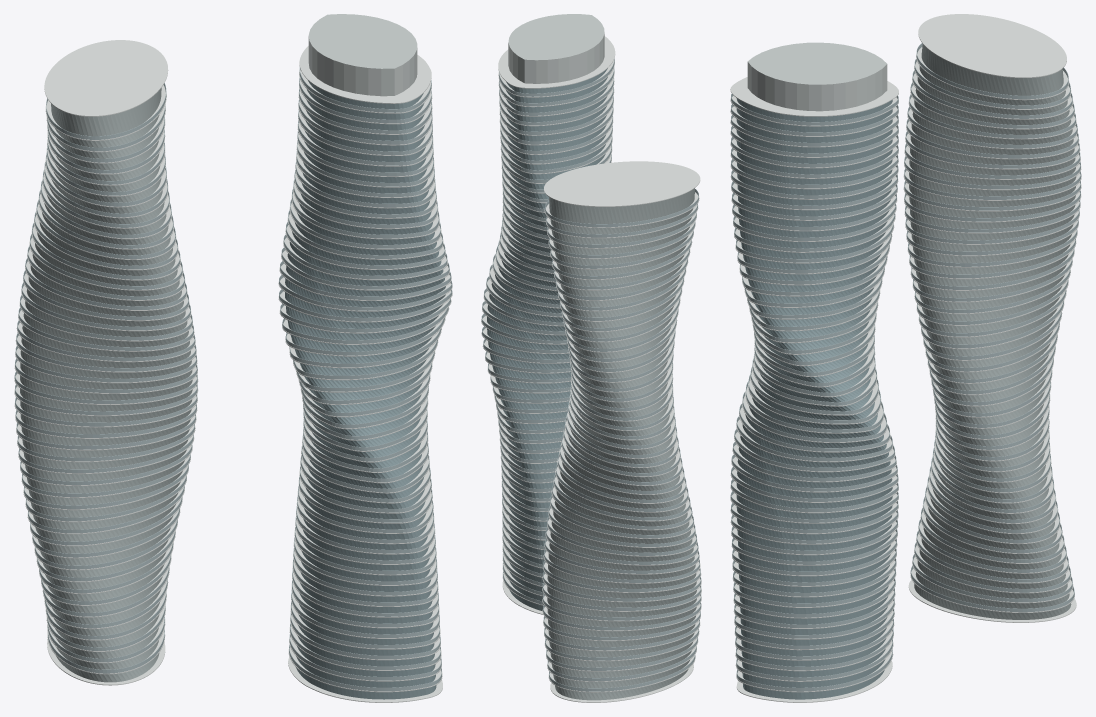
Rendered from absolute-world-source-derived.glb.
3 renders of one model, left to right at view 1: azimuth 30°, elevation 25°; view 2: azimuth 150°, elevation 25°; view 3: azimuth 270°, elevation 25°, orthographic. The views are drawn at different scales.
Visible parts, largest first — view 1: absolute-60-roof-cap, absolute-50-slab-51, absolute-50-glazing-50, absolute-60-slab-57, absolute-50-glazing-22, absolute-50-glazing-24, absolute-50-glazing-23, absolute-50-glazing-26, absolute-50-glazing-25, absolute-50-glazing-27, absolute-50-glazing-21, absolute-50-glazing-20 (+150 smaller); view 2: absolute-60-roof-cap, absolute-50-slab-51, absolute-50-glazing-50, absolute-60-slab-57, absolute-50-glazing-01, absolute-50-glazing-09, absolute-50-glazing-08, absolute-50-glazing-10, absolute-50-glazing-11, absolute-50-glazing-12, absolute-50-glazing-05, absolute-50-glazing-07 (+127 smaller); view 3: absolute-60-roof-cap, absolute-50-slab-51, absolute-50-glazing-50, absolute-60-slab-57, absolute-50-glazing-01, absolute-50-glazing-38, absolute-50-glazing-40, absolute-50-glazing-36, absolute-50-glazing-37, absolute-50-glazing-41, absolute-50-glazing-39, absolute-50-glazing-42 (+196 smaller).
Boxes of the visible parts, <box> form: absolute-60-roof-cap: <box>308,14,417,96</box>; absolute-50-slab-51: <box>44,40,168,116</box>; absolute-50-glazing-50: <box>51,88,161,136</box>; absolute-60-slab-57: <box>299,46,431,103</box>; absolute-50-glazing-22: <box>20,409,191,434</box>; absolute-50-glazing-24: <box>20,388,192,411</box>; absolute-50-glazing-23: <box>20,399,192,422</box>; absolute-50-glazing-26: <box>20,363,192,389</box>; absolute-50-glazing-25: <box>20,375,192,400</box>; absolute-50-glazing-27: <box>20,350,191,378</box>; absolute-50-glazing-21: <box>21,419,190,445</box>; absolute-50-glazing-20: <box>22,429,189,457</box>; absolute-60-roof-cap: <box>508,14,604,83</box>; absolute-50-slab-51: <box>544,161,700,206</box>; absolute-50-glazing-50: <box>549,188,694,223</box>; absolute-60-slab-57: <box>498,36,615,88</box>; absolute-50-glazing-01: <box>555,669,688,700</box>; absolute-50-glazing-09: <box>547,597,696,617</box>; absolute-50-glazing-08: <box>547,607,696,627</box>; absolute-50-glazing-10: <box>547,586,696,607</box>; absolute-50-glazing-11: <box>547,575,696,598</box>; absolute-50-glazing-12: <box>548,564,696,588</box>; absolute-50-glazing-05: <box>549,633,694,657</box>; absolute-50-glazing-07: <box>548,615,695,637</box>; absolute-60-roof-cap: <box>747,42,887,111</box>; absolute-50-slab-51: <box>918,14,1066,77</box>; absolute-50-glazing-50: <box>921,44,1063,95</box>; absolute-60-slab-57: <box>730,77,898,116</box>; absolute-50-glazing-01: <box>914,583,1071,619</box>; absolute-50-glazing-38: <box>909,195,1075,217</box>; absolute-50-glazing-40: <box>909,172,1076,196</box>; absolute-50-glazing-36: <box>910,214,1074,240</box>; absolute-50-glazing-37: <box>910,205,1075,229</box>; absolute-50-glazing-41: <box>909,160,1075,185</box>; absolute-50-glazing-39: <box>909,184,1075,206</box>; absolute-50-glazing-42: <box>910,148,1075,175</box>.
Size of the model in its own units: 93.71 by 176 by 91.38.
